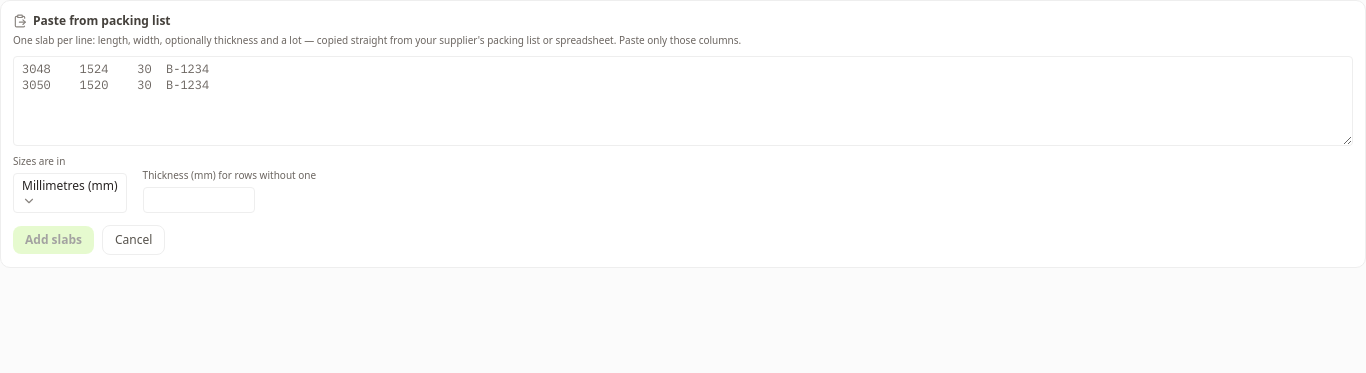
it: PackingListPanel › warns when the sizes look like the wrong unit
Step 1. Type "3048 1524 30" into the text box named "Packing list rows" → {"x": 683, "y": 101}, box [13,56,1353,146]
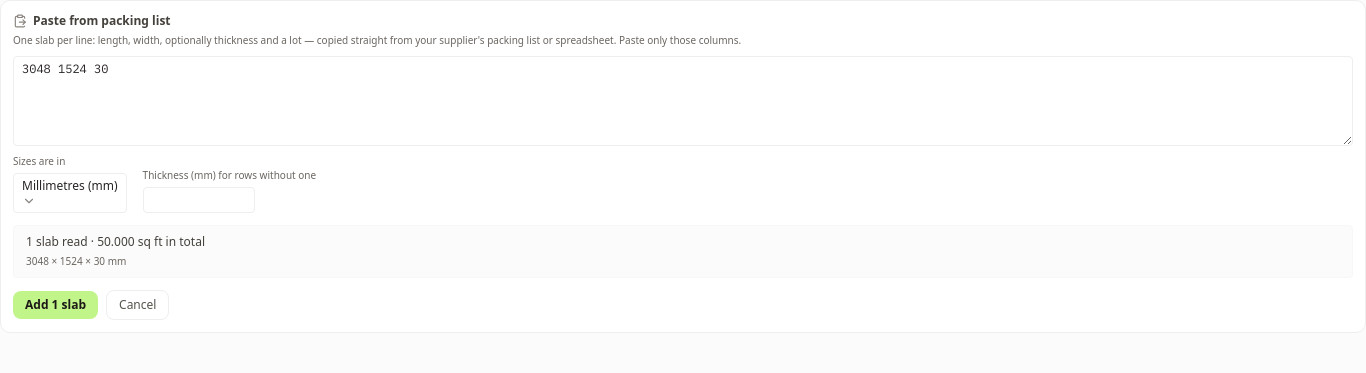
Expected: the text "look unusually" is not shown
Step 2. Replace the text in the text box named "Packing list rows" with "30 15 3" → {"x": 683, "y": 101}, box [13,56,1353,146]
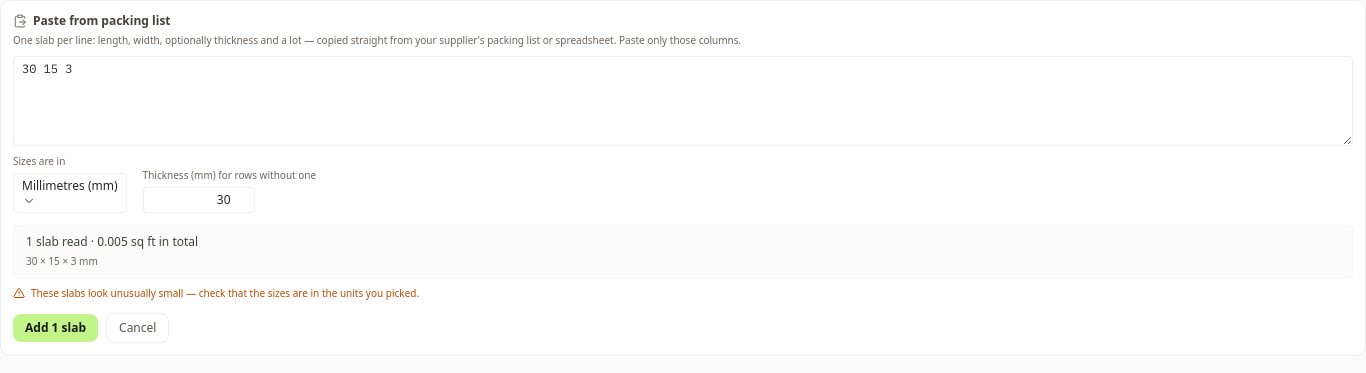
Expected: the text "look unusually small" is shown, [13,286,419,300]
